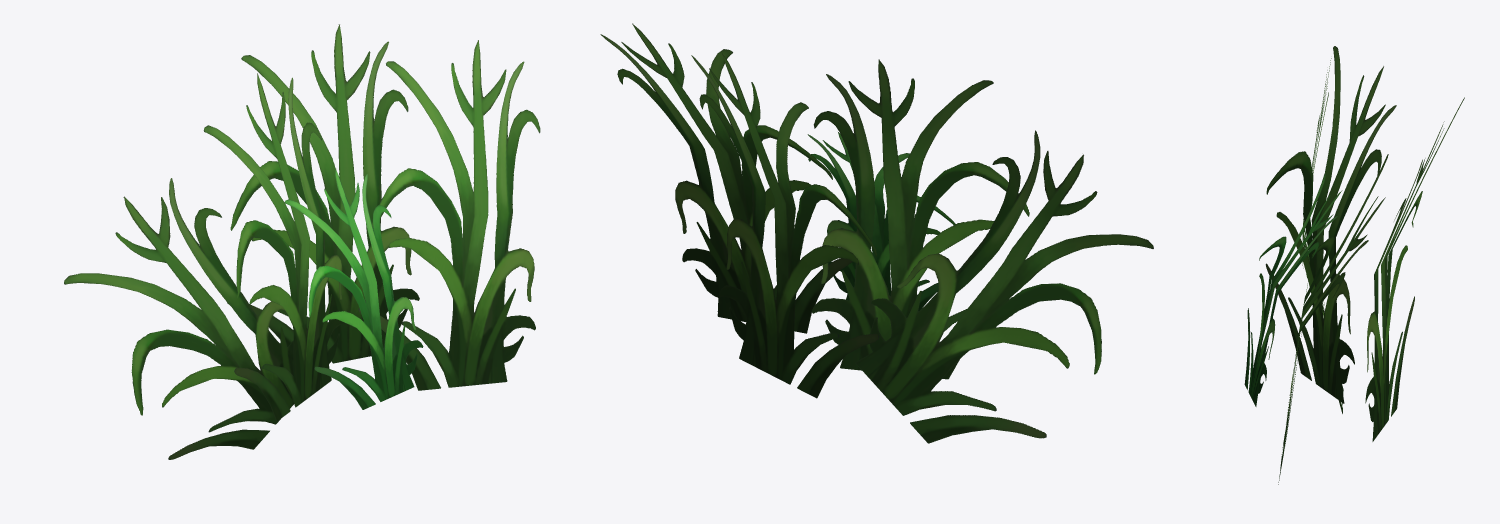
File: sl_cao04.FBX
3 renders of one model, left to right at view 1: azimuth 30°, elevation 25°; view 2: azimuth 150°, elevation 25°; view 3: azimuth 270°, elevation 25°, orthographic. The views are drawn at different scales.
Visible parts, largest first — view 1: sl_cao19, sl_cao20; view 2: sl_cao19, sl_cao20; view 3: sl_cao19, sl_cao20.
Part boxes in pixels (x1,y1,x2,y2): sl_cao19: [64, 24, 540, 459]; sl_cao20: [284, 168, 423, 409]; sl_cao19: [600, 23, 1153, 443]; sl_cao20: [807, 132, 955, 310]; sl_cao19: [1265, 46, 1464, 484]; sl_cao20: [1244, 173, 1342, 406].
Size of the model in its own units: 286 by 206 by 113.
